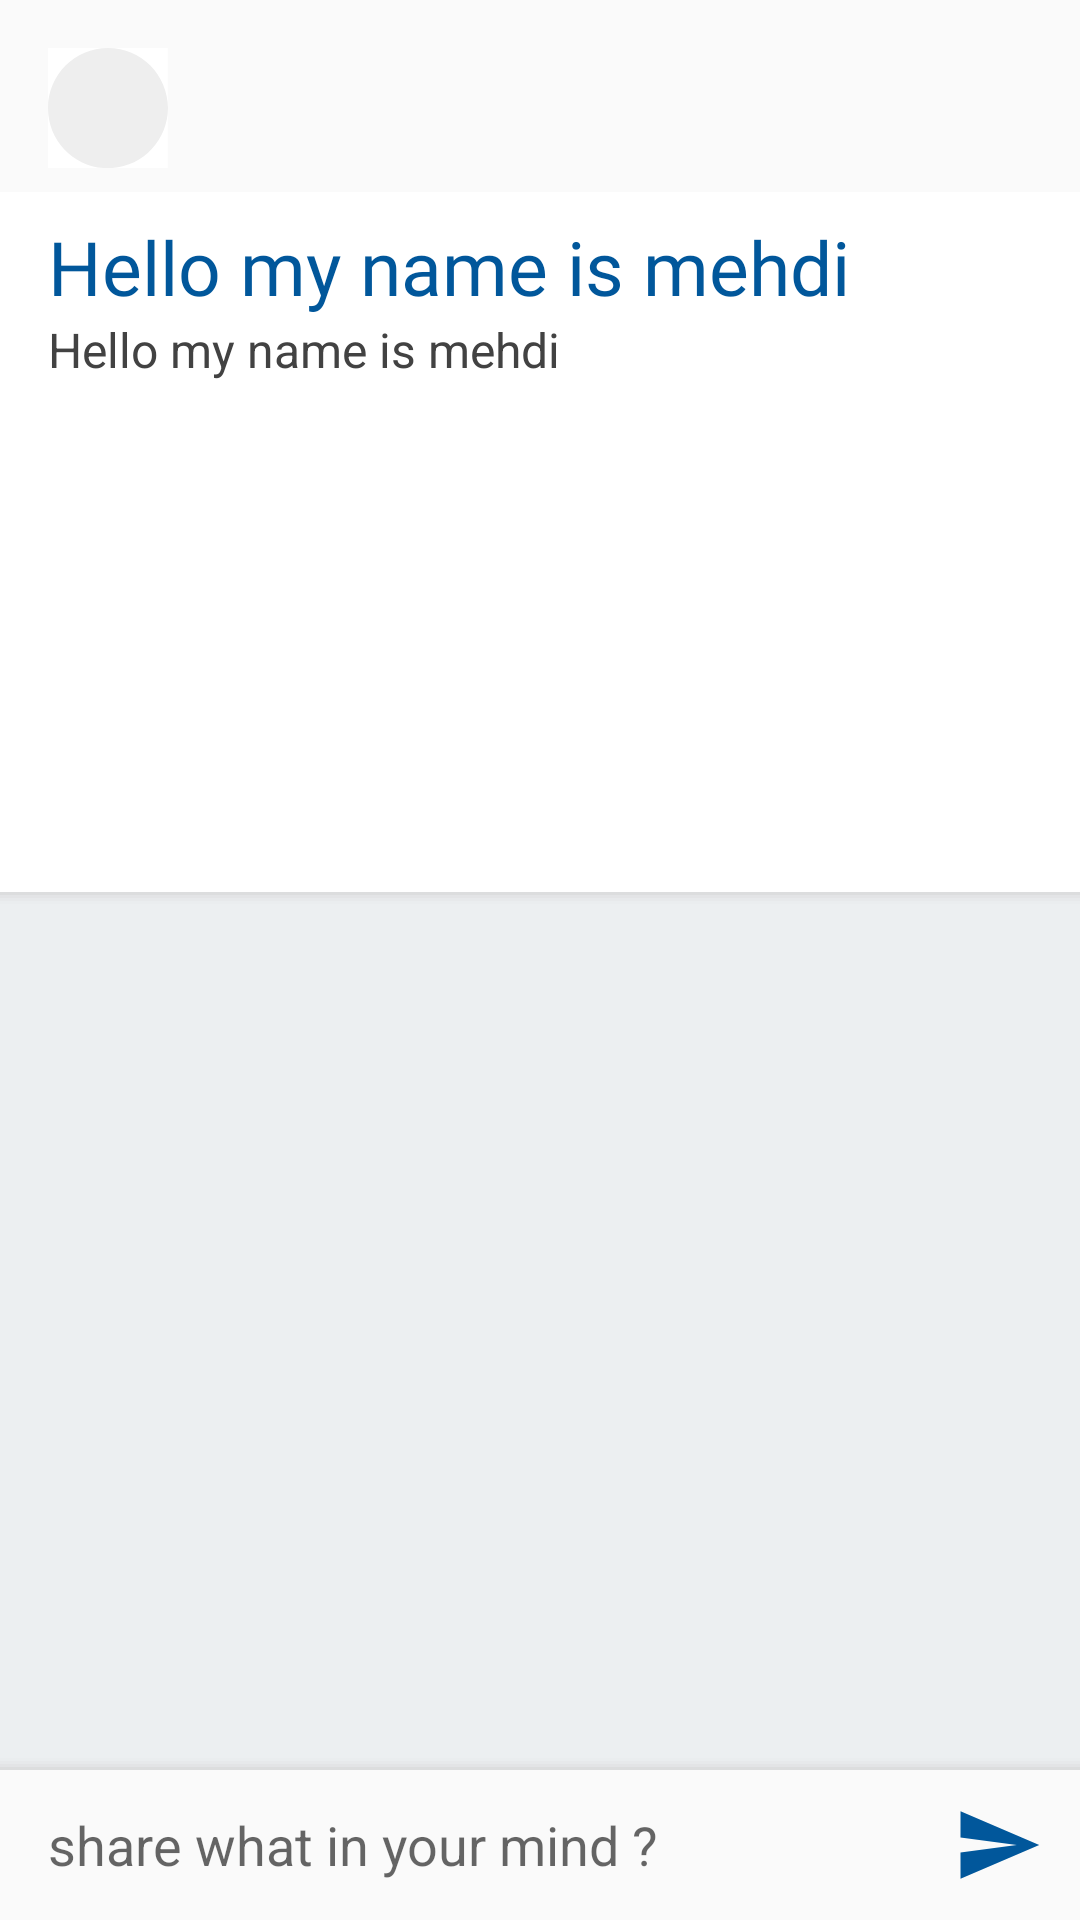

Icon click points for this 1080 x 1920 phone screenshot, format (x,y):
send: (999,1845)
